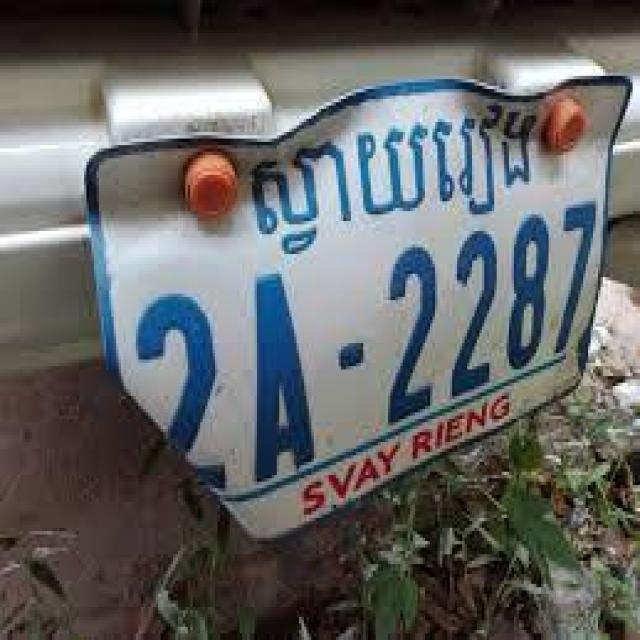Svay_Rieng: (247, 103, 534, 252)
